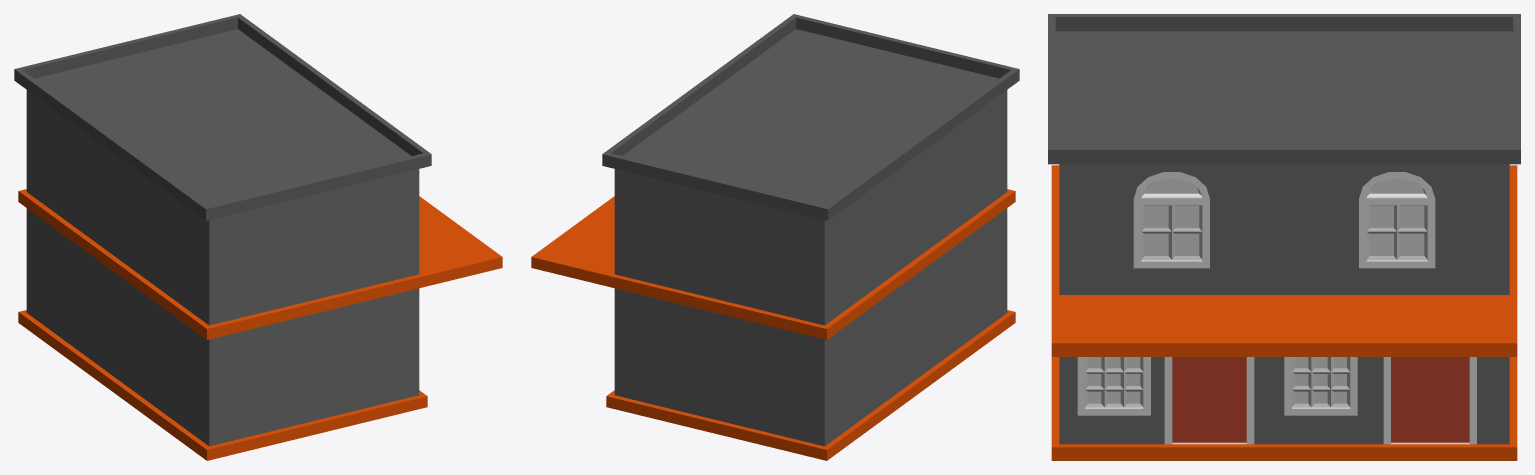
File: Shop 4.fbx
The picture shows the model from 3 angles, left to right: view 1: azimuth 30°, elevation 25°; view 2: azimuth 150°, elevation 25°; view 3: azimuth 270°, elevation 25°; orthographic projection. The views are drawn at different scales.
Parts seen in each view (by area): view 1: building_003; view 2: building_003; view 3: building_003.
Boxes of the visible parts, x1,y1,x2,y2 form: building_003: (14, 14, 502, 460); building_003: (531, 14, 1019, 460); building_003: (1048, 14, 1520, 460).
Size of the model in its own units: 568 by 461 by 632.
